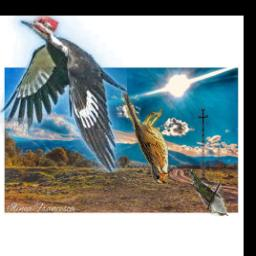Cuckoo: (188, 169, 229, 216)
Sparrow: (120, 88, 168, 185)
Woodpecker: (1, 17, 128, 173)
